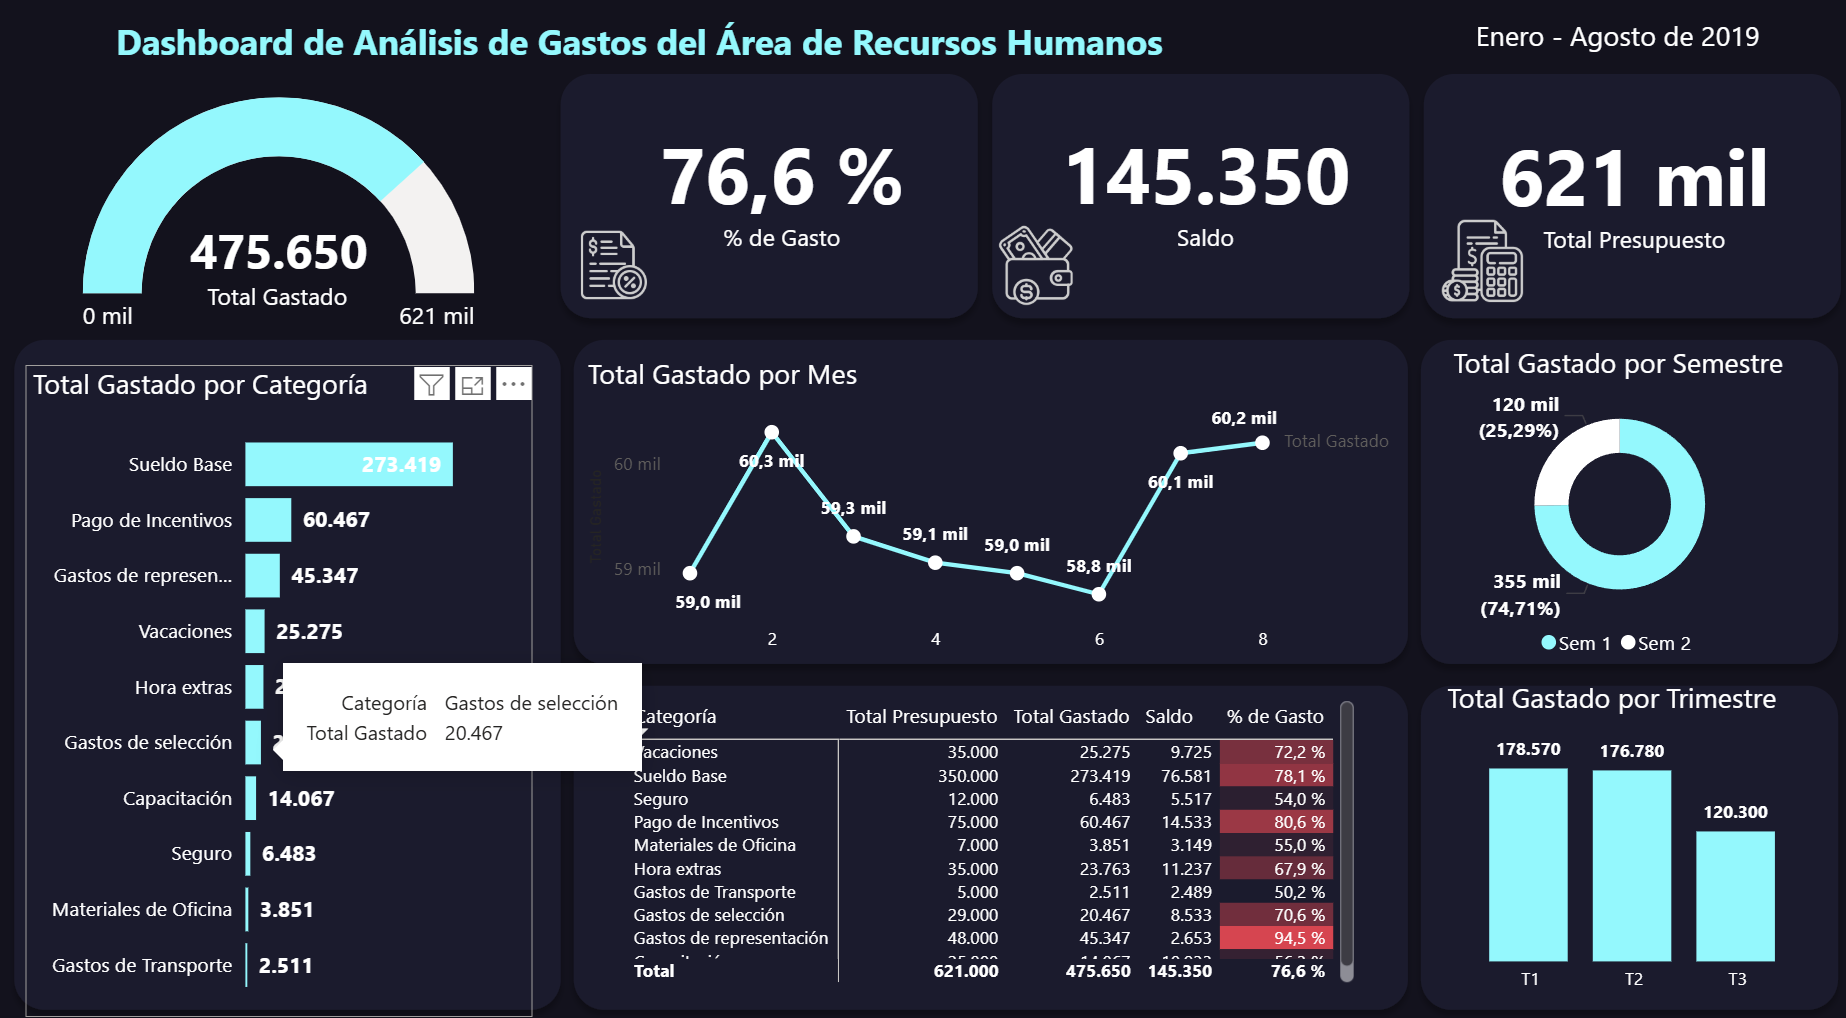

The page's visual inventory and layout, read from the dashboard file:
{"tool":"powerbi","page":{"name":"Panel","canvas":[1280,720],"ordinal":0},"visuals":[{"type":"gauge","fields":{"Y":["Gastos1.Total Gastado"],"MaxValue":["Presupuesto2.Total Presupuesto"]},"box":[55.3,70.4,279.6,177],"z":0},{"type":"textbox","box":[133.8,196.1,121.7,33.2],"z":1000},{"type":"card","fields":{"Values":["Gastos1.% de Gasto"]},"box":[443.5,61.4,196.1,151.9],"z":2000},{"type":"image","box":[392.3,159,69.2,64.1],"z":3000},{"type":"card","fields":{"Values":["Gastos1.Saldo"]},"box":[716.4,60.9,234,151.6],"z":4000},{"type":"image","box":[683.3,157.7,66.7,66.7],"z":5000},{"type":"card","fields":{"Values":["Presupuesto2.Total Presupuesto"]},"box":[999.3,61.6,258.6,152.2],"z":6000},{"type":"image","box":[990.8,154.7,66.5,67.7],"z":7000},{"type":"clusteredBarChart","fields":{"Category":["Presupuesto2.Categoría"],"Y":["Gastos1.Total Gastado"]},"box":[21.6,260.5,349.4,448.6],"z":8000},{"type":"lineChart","title":"Total Gastado por Mes","fields":{"Category":["Calendario.Mes Num"],"Y":["Gastos1.Total Gastado"]},"box":[404.1,252.9,564.2,213.5],"z":9000},{"type":"pivotTable","fields":{"Rows":["Presupuesto2.Categoría"],"Values":["Presupuesto2.Total Presupuesto","Gastos1.Total Gastado","Gastos1.Saldo","Gastos1.% de Gasto"]},"box":[430.8,485.9,510.3,203.8],"z":10000},{"type":"donutChart","fields":{"Category":["Calendario.Semestre"],"Y":["Gastos1.Total Gastado"]},"box":[998.7,246.2,238.5,224.4],"z":11000},{"type":"clusteredColumnChart","fields":{"Y":["Gastos1.Total Gastado"],"Category":["Calendario.Trimestre"]},"box":[994.9,475.6,266.7,224.4],"z":12000},{"type":"textbox","box":[1011.5,15.4,211.5,37.2],"z":14000},{"type":"textbox","box":[76.9,15.4,733.3,55.1],"z":14001}]}

Visuals, with their boxes in screenshot pixels (x1, y1, x2, y2), scaled from the page's 1280x720 canvas onto the 1846x1018 screenshot:
gauge - Gastos1.Total Gastado x Presupuesto2.Total Presupuesto: bbox=(80, 100, 483, 350)
textbox: bbox=(193, 277, 368, 324)
card - Gastos1.% de Gasto: bbox=(640, 87, 922, 302)
image: bbox=(566, 225, 666, 315)
card - Gastos1.Saldo: bbox=(1033, 86, 1371, 300)
image: bbox=(985, 223, 1082, 317)
card - Presupuesto2.Total Presupuesto: bbox=(1441, 87, 1814, 302)
image: bbox=(1429, 219, 1525, 314)
clusteredBarChart - Presupuesto2.Categoría x Gastos1.Total Gastado: bbox=(31, 368, 535, 1003)
"Total Gastado por Mes" lineChart: bbox=(583, 358, 1396, 659)
pivotTable - Presupuesto2.Categoría x Presupuesto2.Total Presupuesto: bbox=(621, 687, 1357, 975)
donutChart - Calendario.Semestre x Gastos1.Total Gastado: bbox=(1440, 348, 1784, 665)
clusteredColumnChart - Gastos1.Total Gastado x Calendario.Trimestre: bbox=(1435, 672, 1819, 990)
textbox: bbox=(1459, 22, 1764, 74)
textbox: bbox=(111, 22, 1168, 100)
